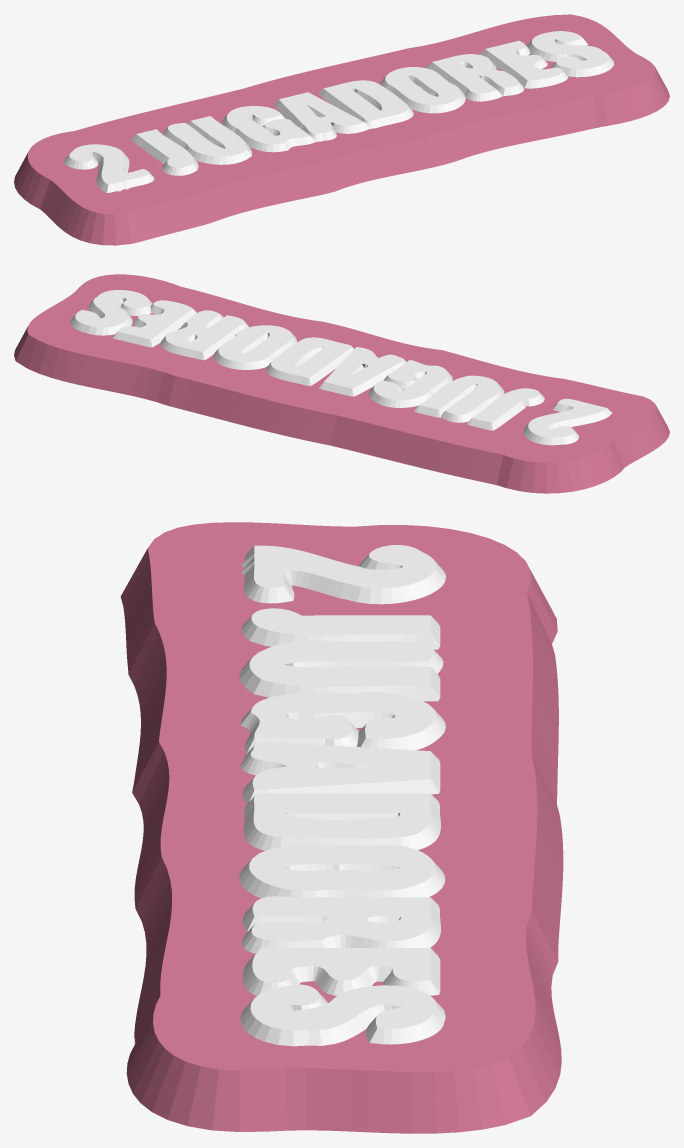
3 renders of one model, top to bottom at view 1: azimuth 30°, elevation 25°; view 2: azimuth 150°, elevation 25°; view 3: azimuth 270°, elevation 25°, orthographic. The views are drawn at different scales.
Parts seen in each view (by area): view 1: 2p; view 2: 2p; view 3: 2p.
Part boxes in pixels (x1,y1,x2,y2): 2p: (14,14,669,245); 2p: (14,274,669,493); 2p: (120,522,563,1133).
Bounding box in the file's own units: 1205 × 62.12 × 394.
